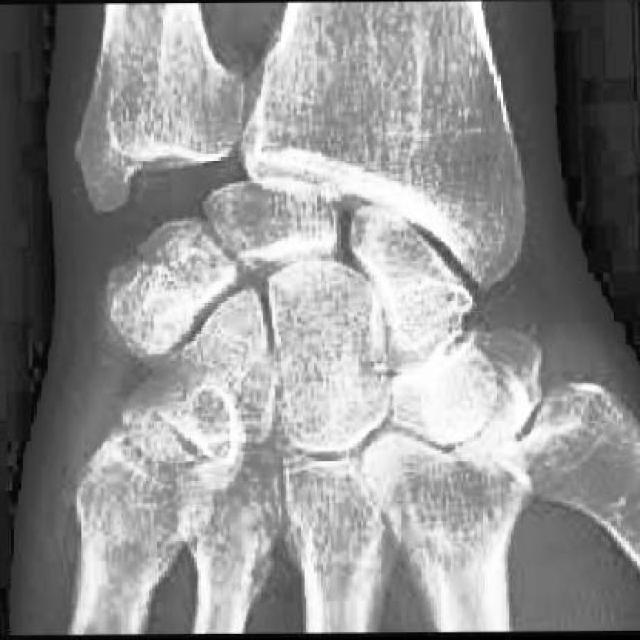Fracture: (136, 388, 247, 483)
